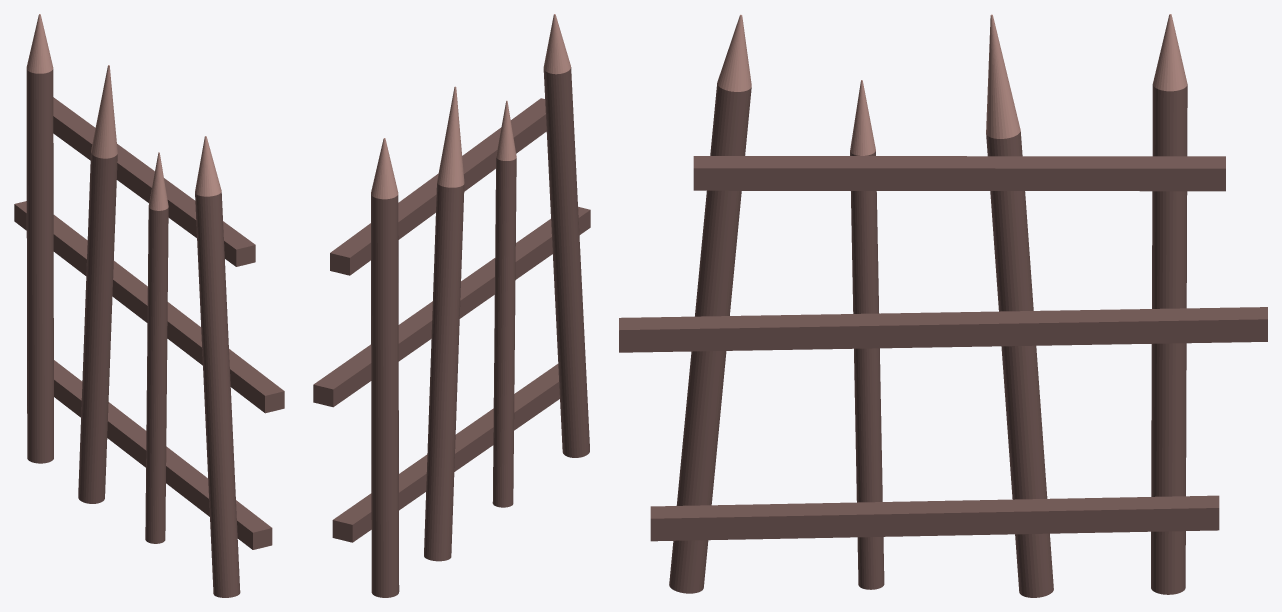
Rendered from Wooden wall2.fbx.
3 renders of one model, left to right at view 1: azimuth 30°, elevation 25°; view 2: azimuth 150°, elevation 25°; view 3: azimuth 270°, elevation 25°, orthographic. The views are drawn at different scales.
Visible parts, largest first — view 1: Cylinder; view 2: Cylinder; view 3: Cylinder.
Part boxes in pixels (left/top/right/bottom): Cylinder: left=14, top=14, right=284, bottom=597; Cylinder: left=313, top=14, right=590, bottom=597; Cylinder: left=619, top=14, right=1267, bottom=597.
Bounding box in the file's own units: 26.1 × 257 × 262.
